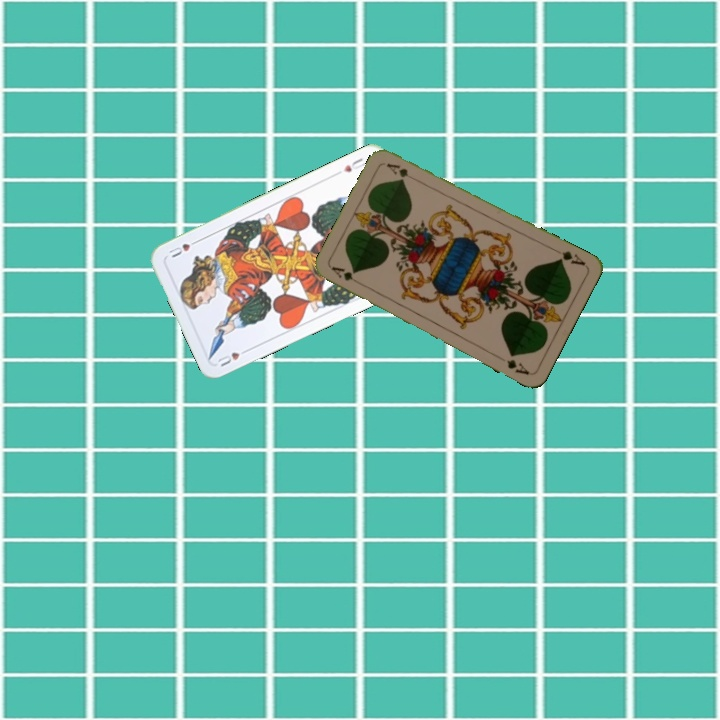GA: (328, 262, 365, 288), (550, 245, 588, 268)
HU: (214, 345, 252, 369), (332, 154, 368, 177)
